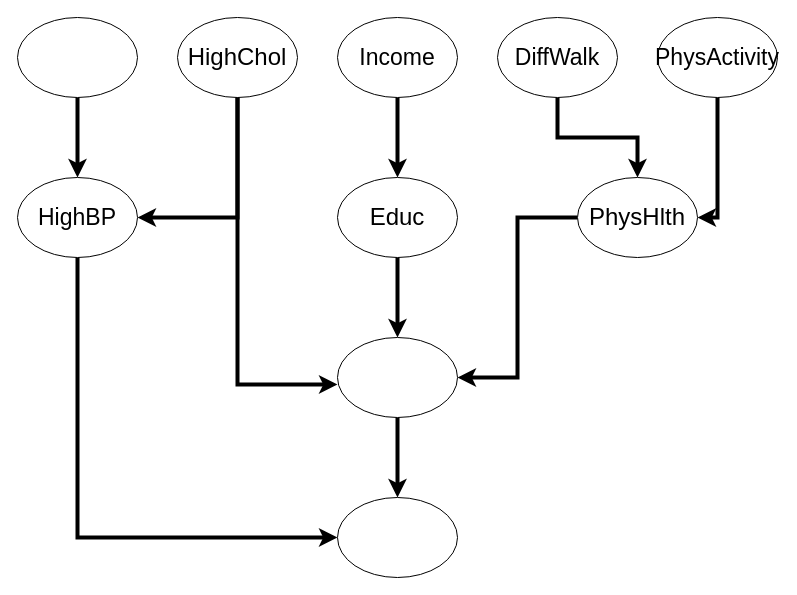
The diagram is 797 pixels wide and 595 high, and some of its shapes have lost their labels. Here are the shapes that lost their labels. From the top down, the box of each, then its label:
(16, 16, 138, 98): Age
(336, 336, 458, 418): GenHlth
(336, 496, 458, 578): Diabetes
